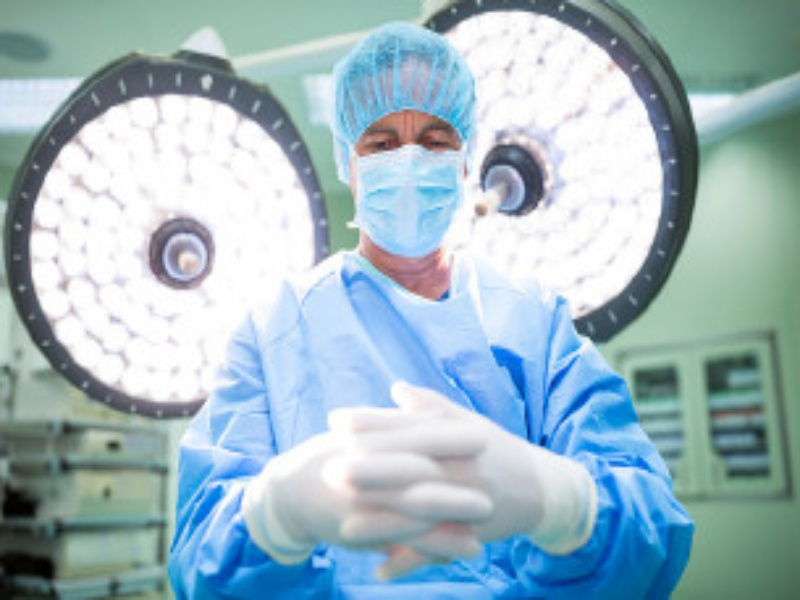mask: (313, 21, 480, 250)
